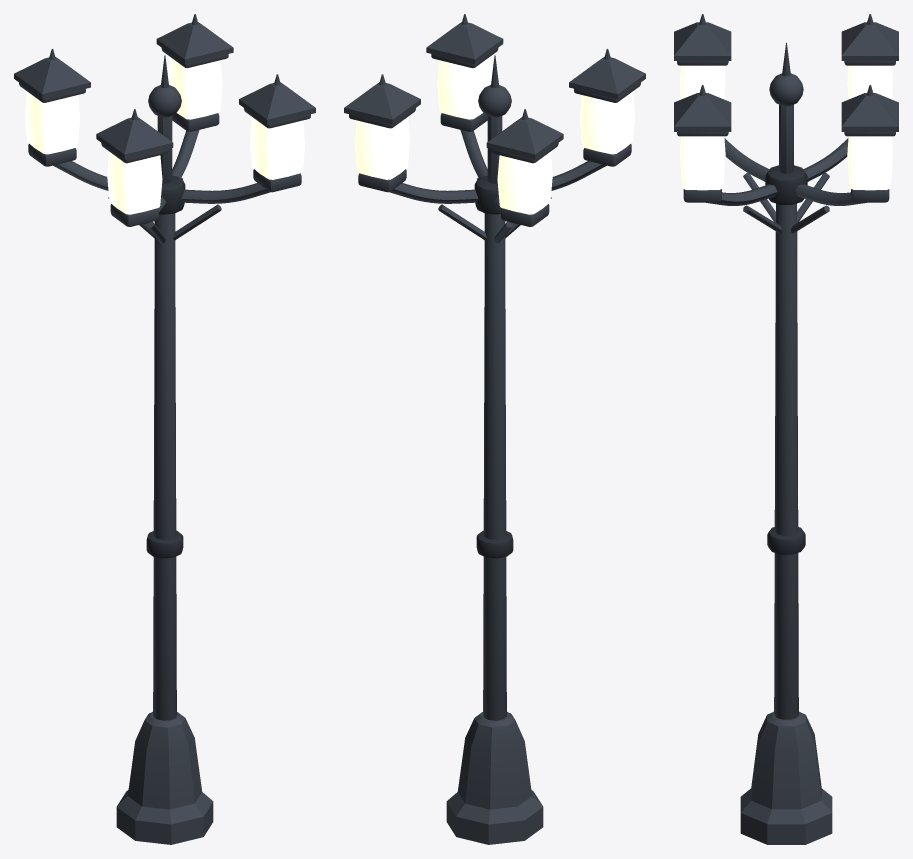
File: poste_praca_4_lanternas.glb
3 views of the same model, side by side, from view 1: azimuth 30°, elevation 25°; view 2: azimuth 150°, elevation 25°; view 3: azimuth 270°, elevation 25° (orthographic).
Parts seen in each view (by area): view 1: poste_praca_4_lanternas; view 2: poste_praca_4_lanternas; view 3: poste_praca_4_lanternas.
Boxes of the visible parts, bbox=[...] form: poste_praca_4_lanternas: bbox=[14, 14, 315, 844]; poste_praca_4_lanternas: bbox=[344, 14, 645, 844]; poste_praca_4_lanternas: bbox=[674, 14, 898, 844].
Size of the model in its own units: 1.18 by 4.52 by 1.18.
Materials: 2 (1 with a texture image).
